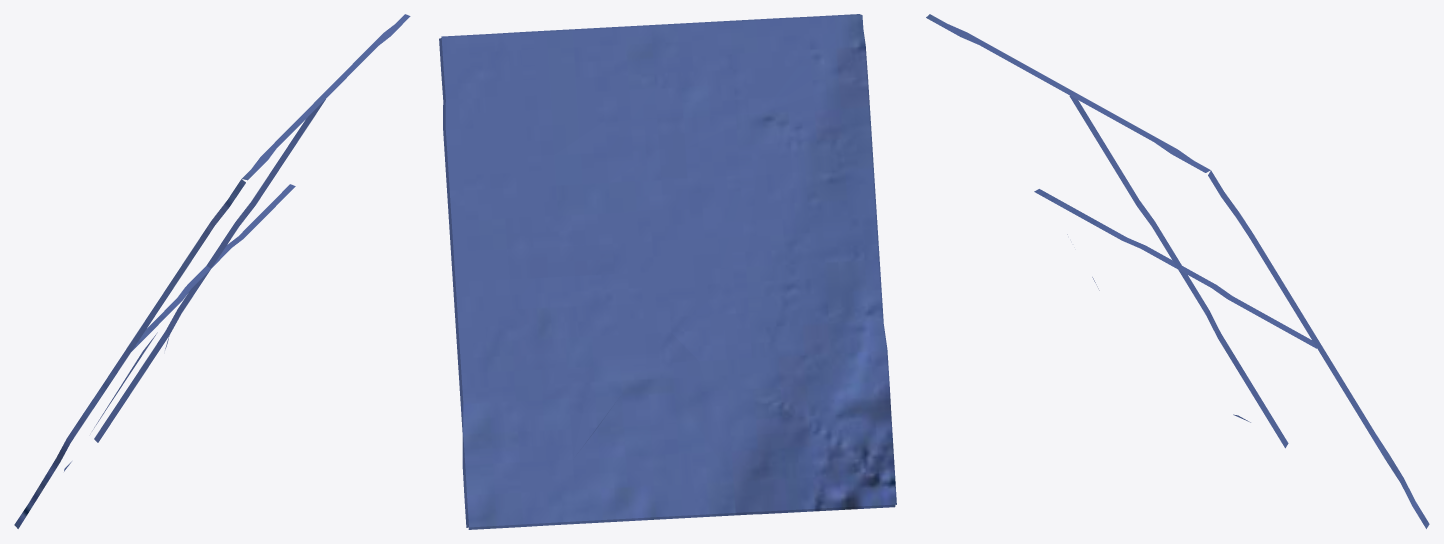
The picture shows the model from 3 angles, left to right: view 1: azimuth 30°, elevation 25°; view 2: azimuth 150°, elevation 25°; view 3: azimuth 270°, elevation 25°; orthographic projection. The views are drawn at different scales.
Size of the model in its own units: 156945 by 137521 by 146658.
Materials: 1 (1 with a texture image).
